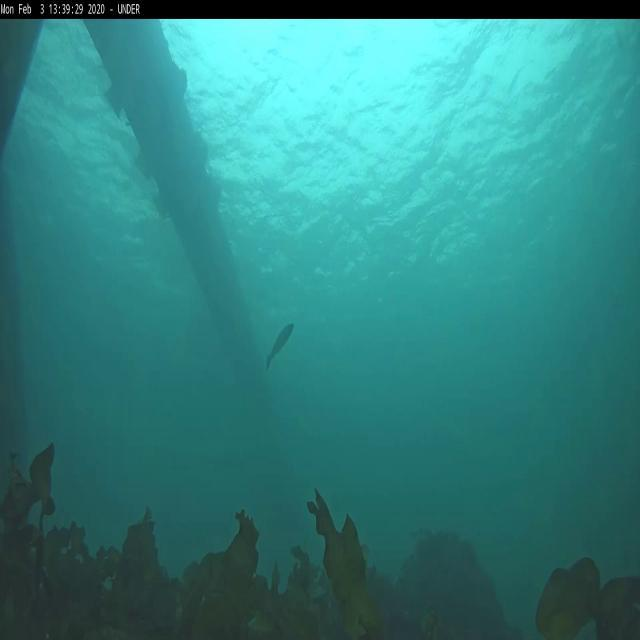fish: (266, 323, 295, 368)
